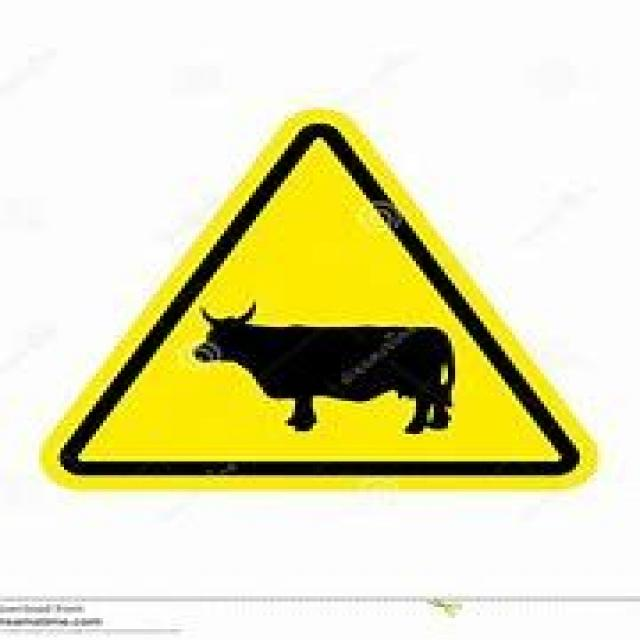CATTLE: (35, 104, 598, 503)
